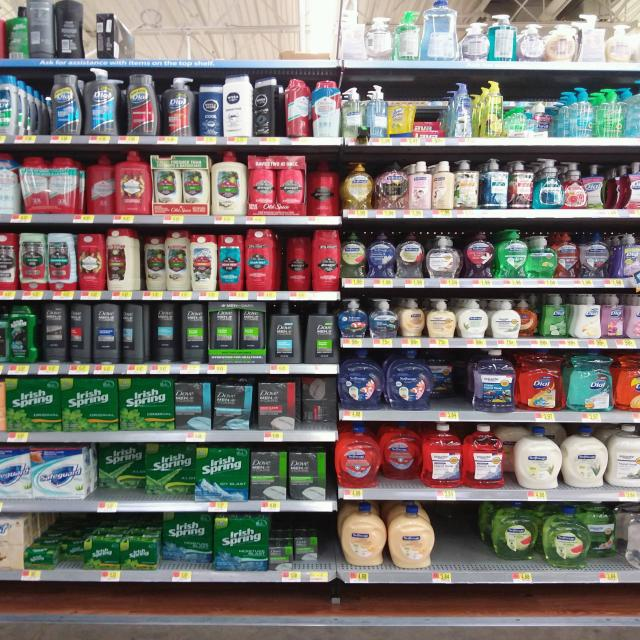void: (126, 0, 293, 60), (438, 504, 492, 565)
